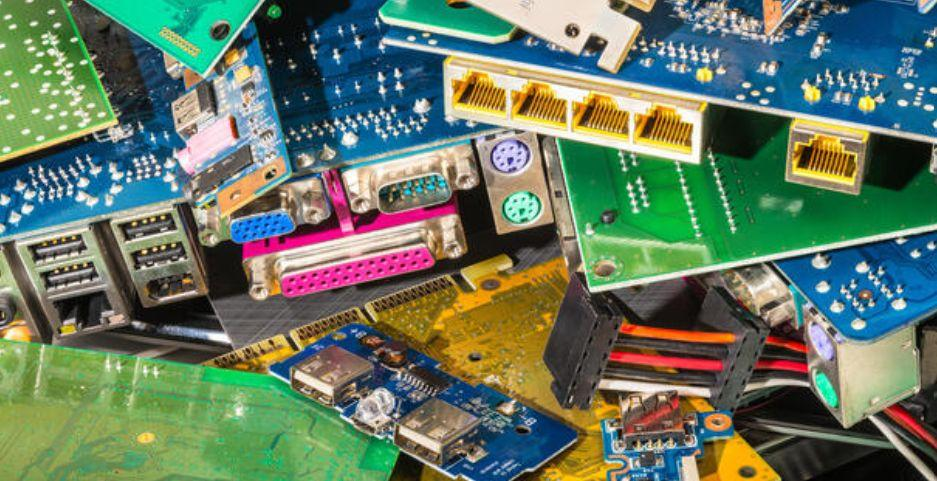electronic: (10, 6, 530, 340), (402, 2, 932, 155), (552, 117, 933, 294), (8, 205, 209, 344), (0, 2, 116, 171), (71, 1, 271, 78), (382, 0, 522, 45), (717, 1, 822, 38), (171, 81, 219, 137)
